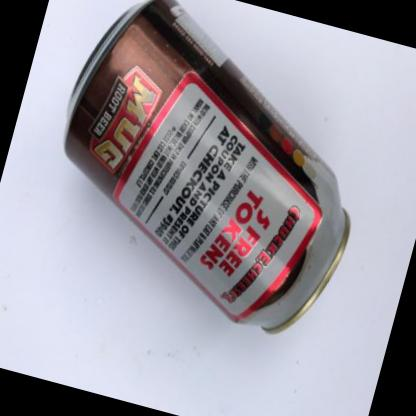Metal: (64, 0, 350, 333)
